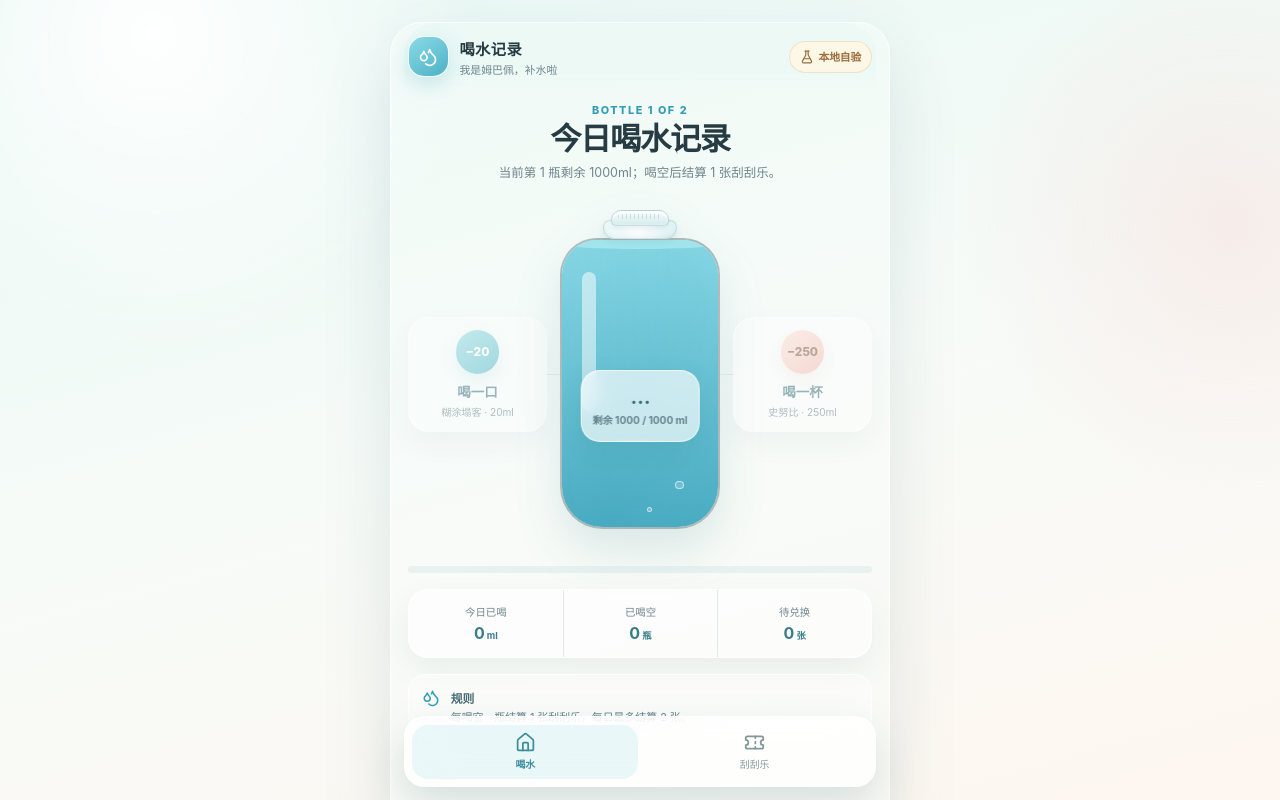
Test: WaterUserPage › summarizes the redeemed cash amount in the scratch-card area
Click the button "刮刮乐" at (755, 752), box [642,725,868,778]
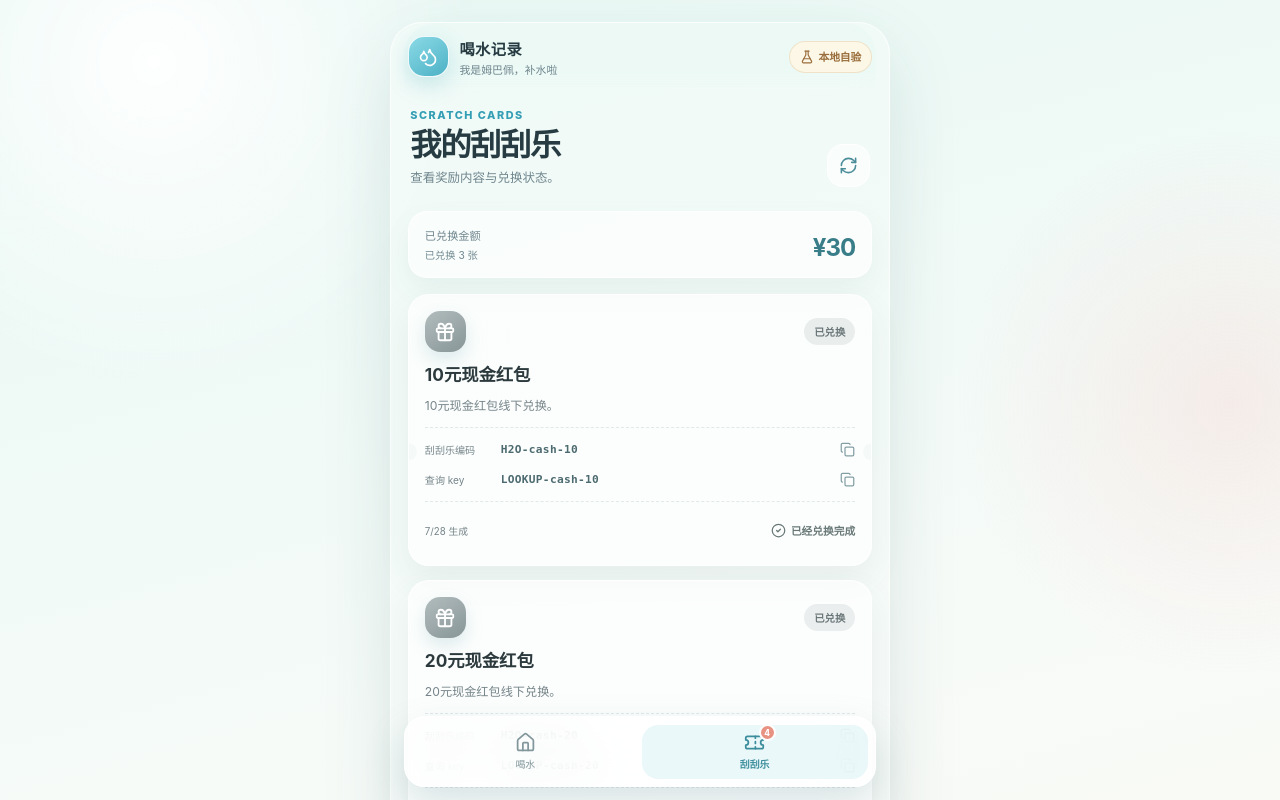
Expected: the text "已兑换金额" is shown, [425,230,481,244]
Expected: the text "¥30" is shown, [813,233,855,262]
Expected: the text "已兑换 3 张" is shown, [425,249,478,261]
